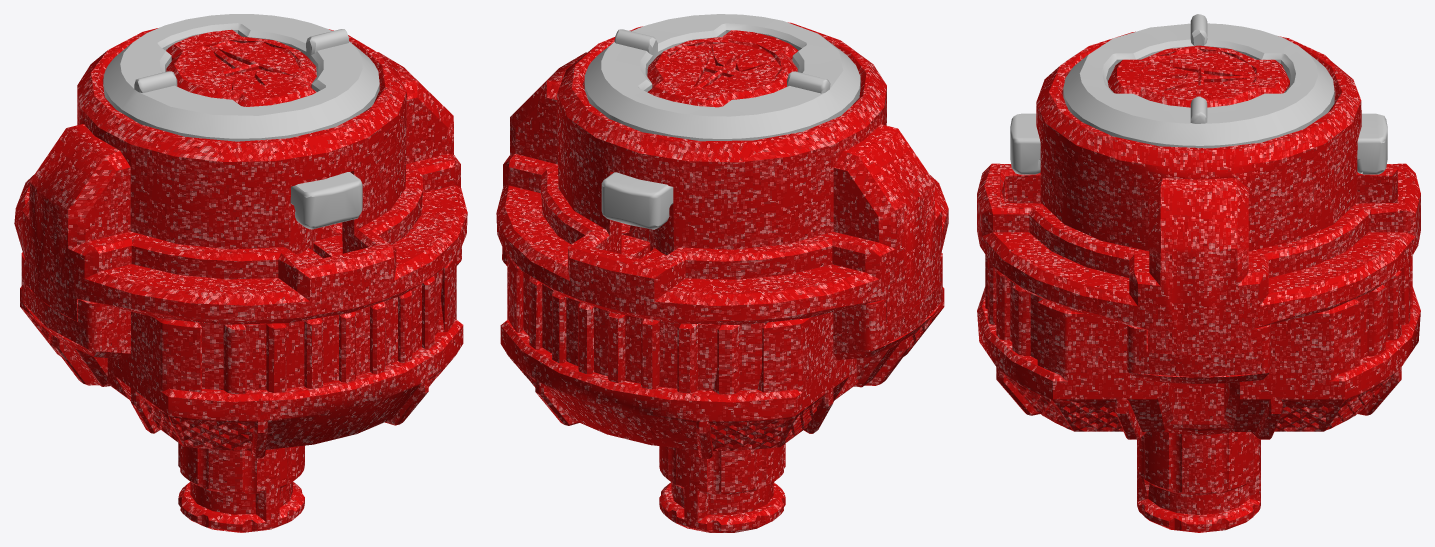
File: towersgeo_crystaldranzer.fbx
3 views of the same model, side by side, from view 1: azimuth 30°, elevation 25°; view 2: azimuth 150°, elevation 25°; view 3: azimuth 270°, elevation 25° (orthographic).
Parts seen in each view (by area): view 1: TowerSGeo_CrystalDranzer; view 2: TowerSGeo_CrystalDranzer; view 3: TowerSGeo_CrystalDranzer.
Part boxes in pixels (box(x1,y1,x2,y2)): TowerSGeo_CrystalDranzer: box(14, 14, 467, 532); TowerSGeo_CrystalDranzer: box(496, 14, 948, 532); TowerSGeo_CrystalDranzer: box(977, 14, 1420, 532).
Size of the model in its own units: 0.2605 by 0.2888 by 0.2605.
